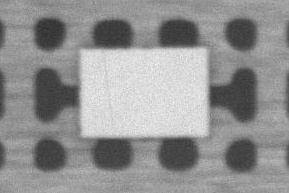DIE_CRACK: (154, 33, 169, 85)
